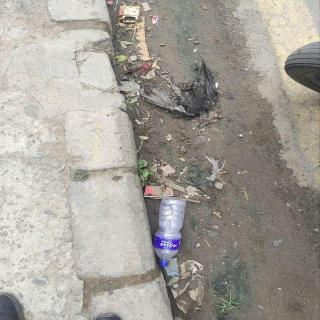Plastic-bottle: (151, 195, 191, 271)
